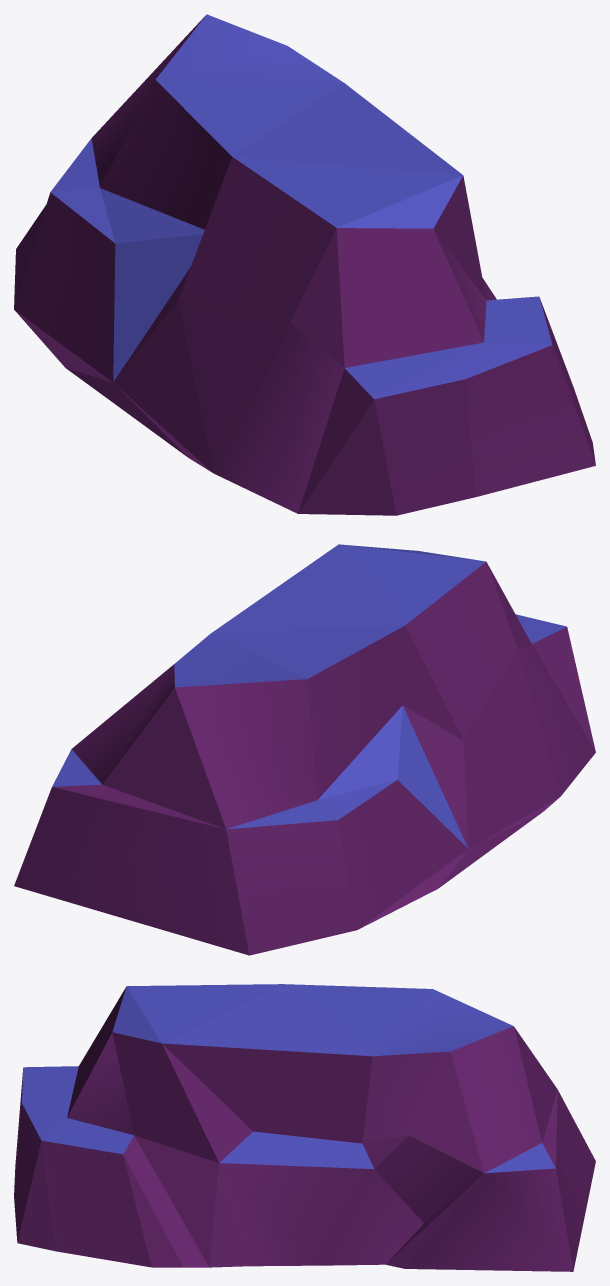
The model's file is Mountain_1.fbx.
3 views of the same model, one above another, from view 1: azimuth 30°, elevation 25°; view 2: azimuth 150°, elevation 25°; view 3: azimuth 270°, elevation 25° (orthographic). The views are drawn at different scales.
Visible parts, largest first — view 1: Mountain_1; view 2: Mountain_1; view 3: Mountain_1.
Boxes of the visible parts, x1,y1,x2,y2 form: Mountain_1: (14, 14, 595, 515); Mountain_1: (14, 544, 595, 955); Mountain_1: (14, 984, 595, 1271).
Size of the model in its own units: 8.38 by 14.4 by 5.15.
